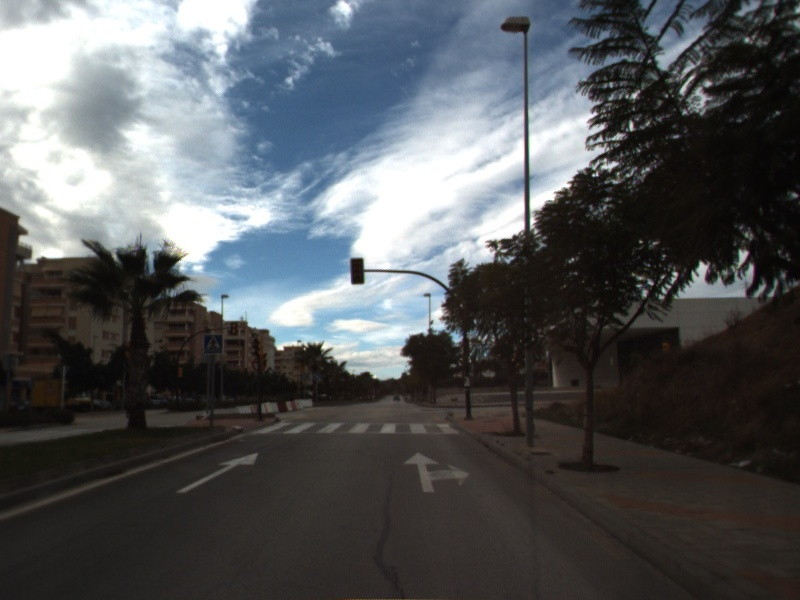STRAIGHT: (175, 450, 260, 495)
STRAIGHT_RIGHT: (402, 450, 472, 494)
